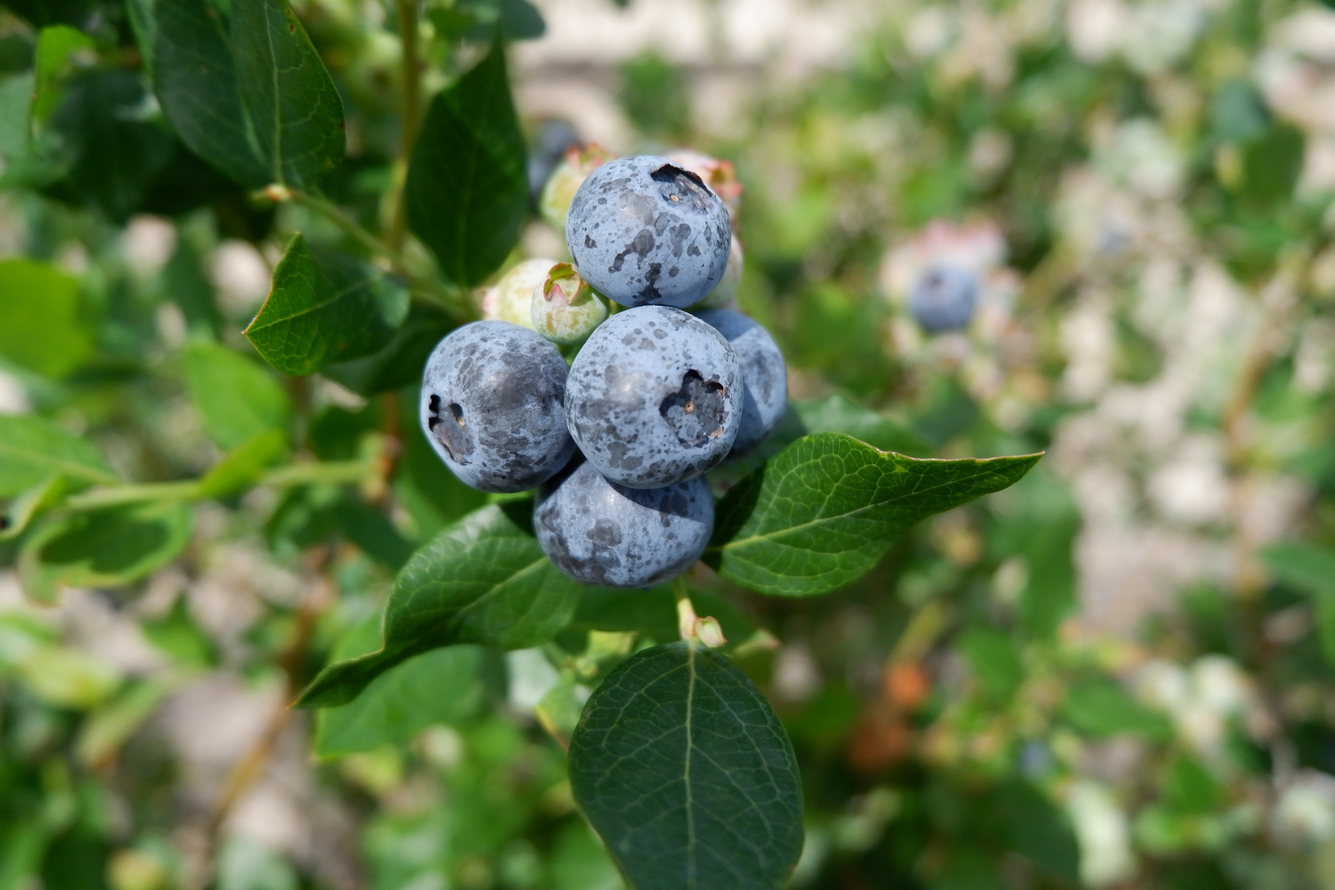Immature: (533, 265, 609, 347), (476, 258, 560, 328), (662, 150, 740, 222), (542, 147, 602, 230)
Mature: (567, 306, 736, 485), (422, 325, 567, 491), (569, 159, 727, 305), (535, 459, 711, 590), (702, 310, 787, 455), (698, 243, 742, 308)
